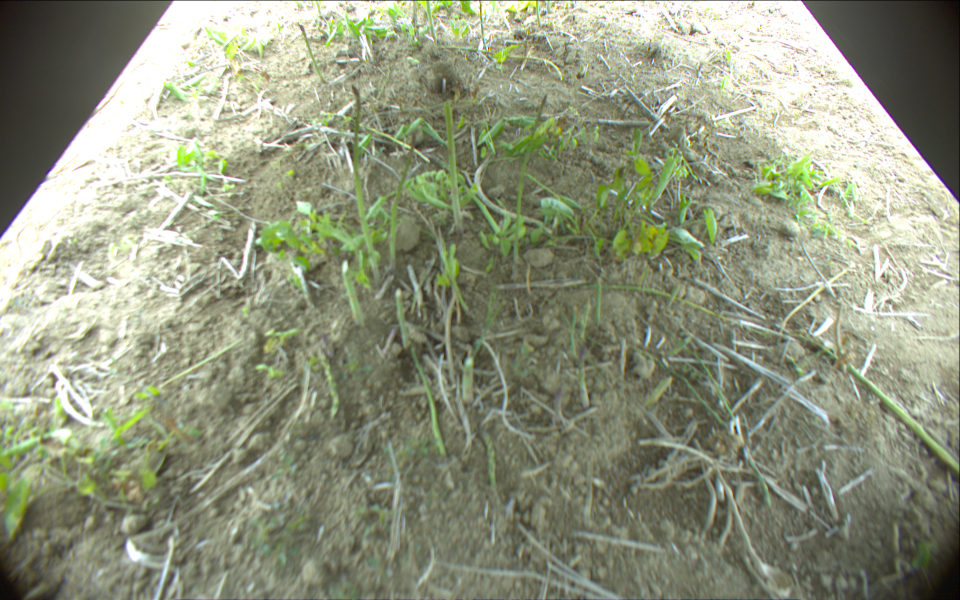aspa: (786, 326, 960, 478), (512, 93, 548, 269), (350, 87, 380, 282), (386, 134, 418, 272), (412, 348, 446, 456), (340, 259, 368, 333), (447, 99, 462, 229), (478, 430, 506, 495), (297, 22, 325, 82), (320, 355, 344, 416), (393, 286, 408, 355), (457, 358, 474, 408), (647, 377, 673, 409), (479, 1, 490, 50), (426, 1, 436, 42), (534, 1, 540, 22), (545, 1, 550, 16)
